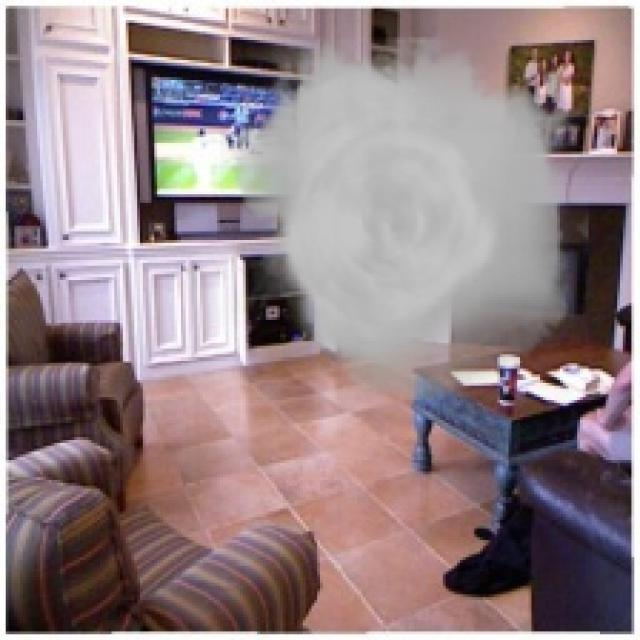Smoke: (220, 37, 589, 400)
